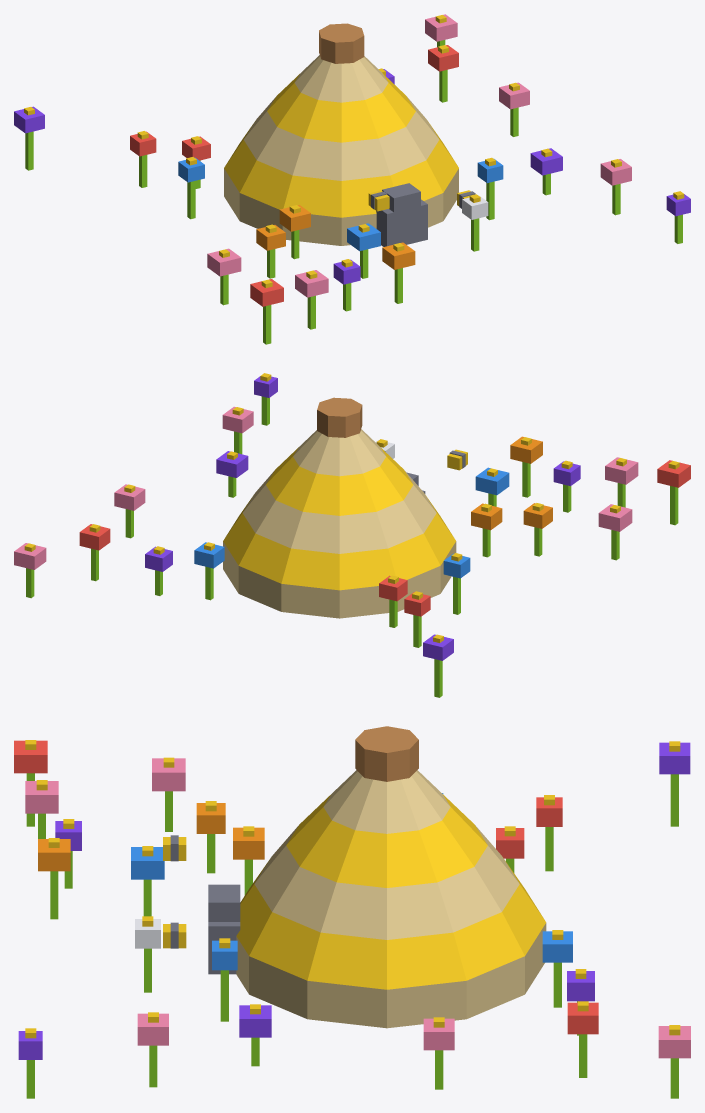
The model's file is hive-1x1-t1.glb.
3 views of the same model, one above another, from view 1: azimuth 30°, elevation 25°; view 2: azimuth 150°, elevation 25°; view 3: azimuth 270°, elevation 25° (orthographic). The views are drawn at different scales.
Parts seen in each view (by area): view 1: hive-1x1-t1; view 2: hive-1x1-t1; view 3: hive-1x1-t1.
Boxes of the visible parts, x1,y1,x2,y2 form: hive-1x1-t1: [14, 14, 690, 344]; hive-1x1-t1: [14, 373, 690, 697]; hive-1x1-t1: [14, 726, 690, 1098].
Size of the model in its own units: 0.9882 by 0.3565 by 0.9882.
Materials: 1 (1 with a texture image).
